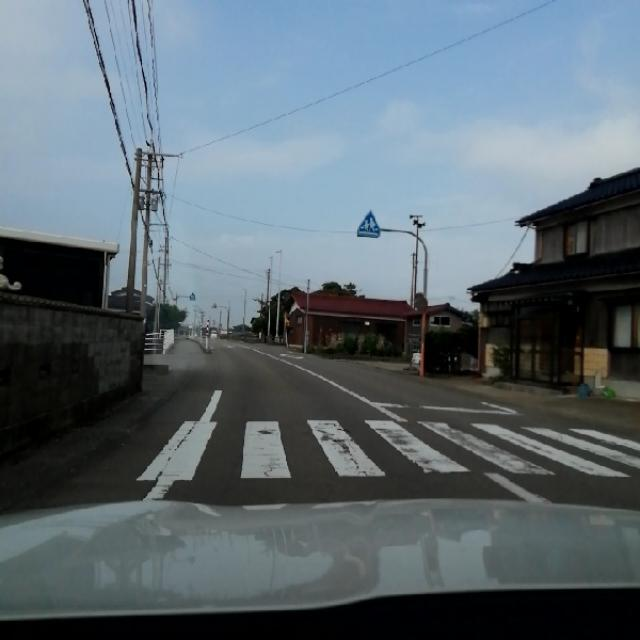pothole: (255, 447, 387, 486)
